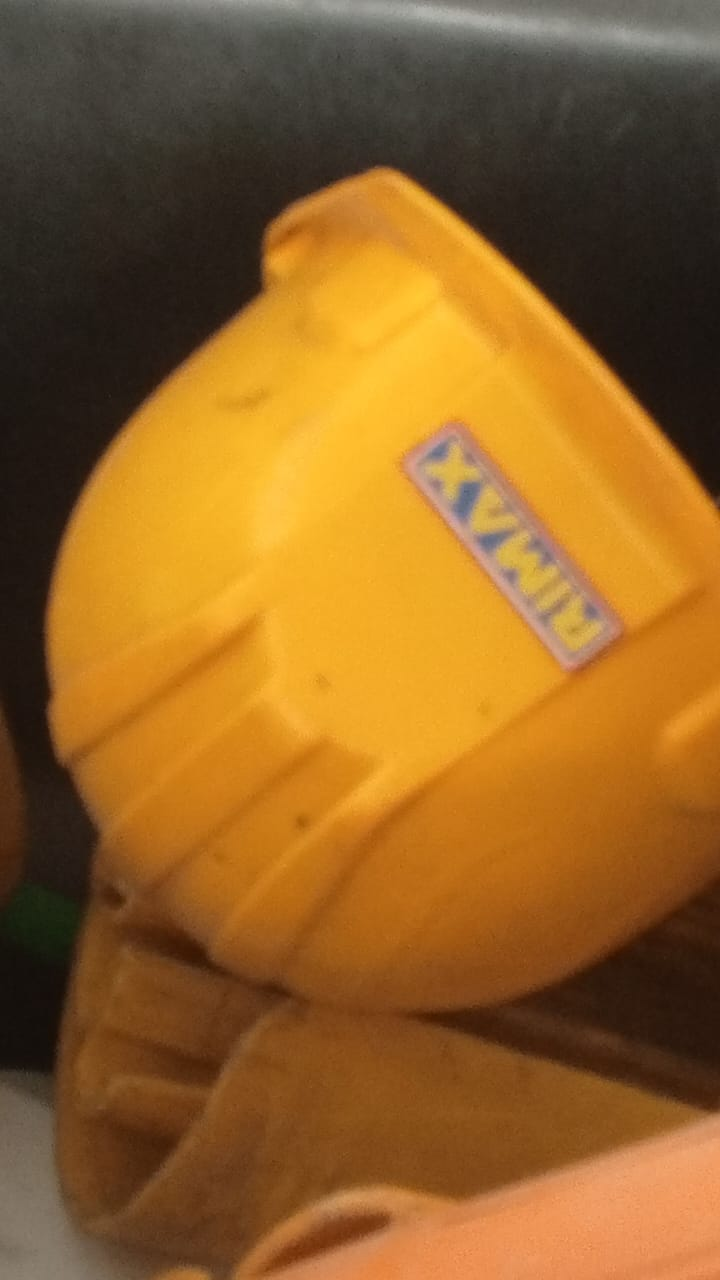Plastico: (43, 162, 720, 1009)
